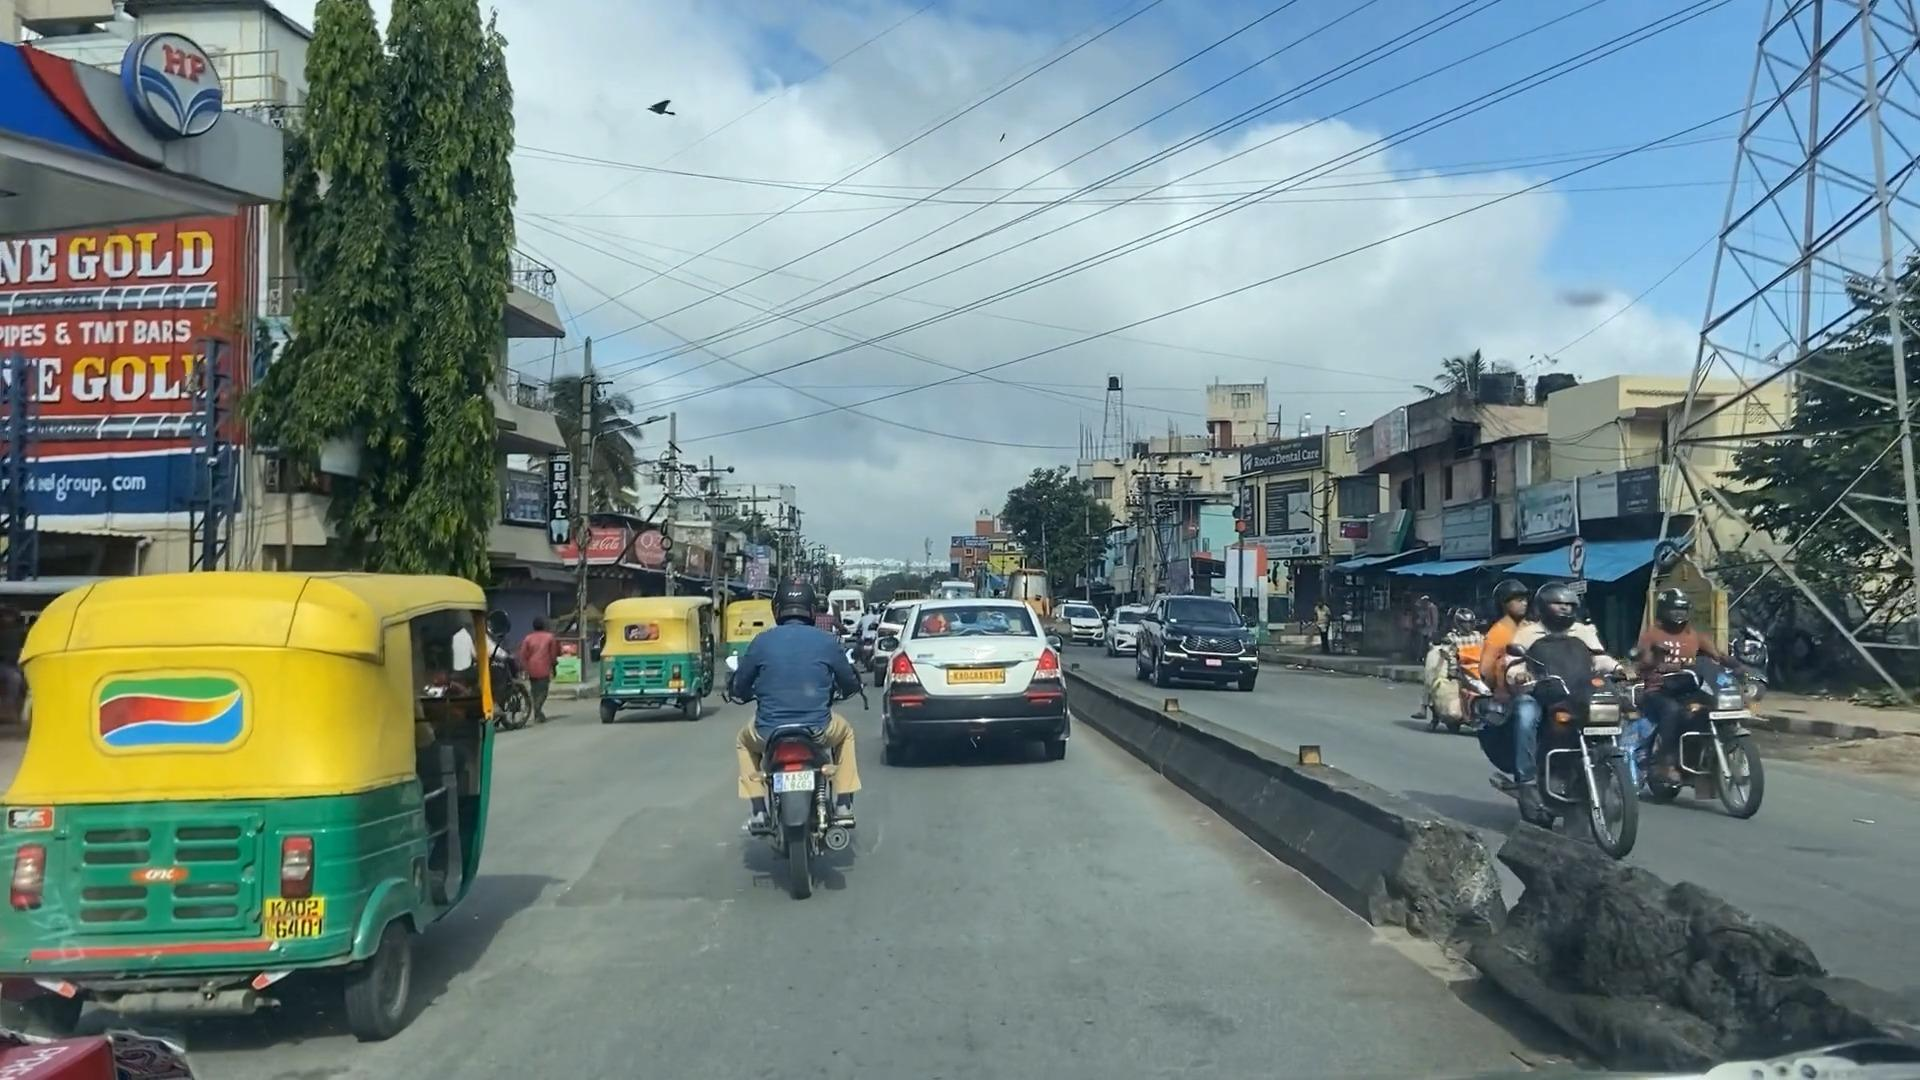LMV: (34, 588, 481, 1017), (735, 578, 858, 894), (887, 591, 1072, 761)
